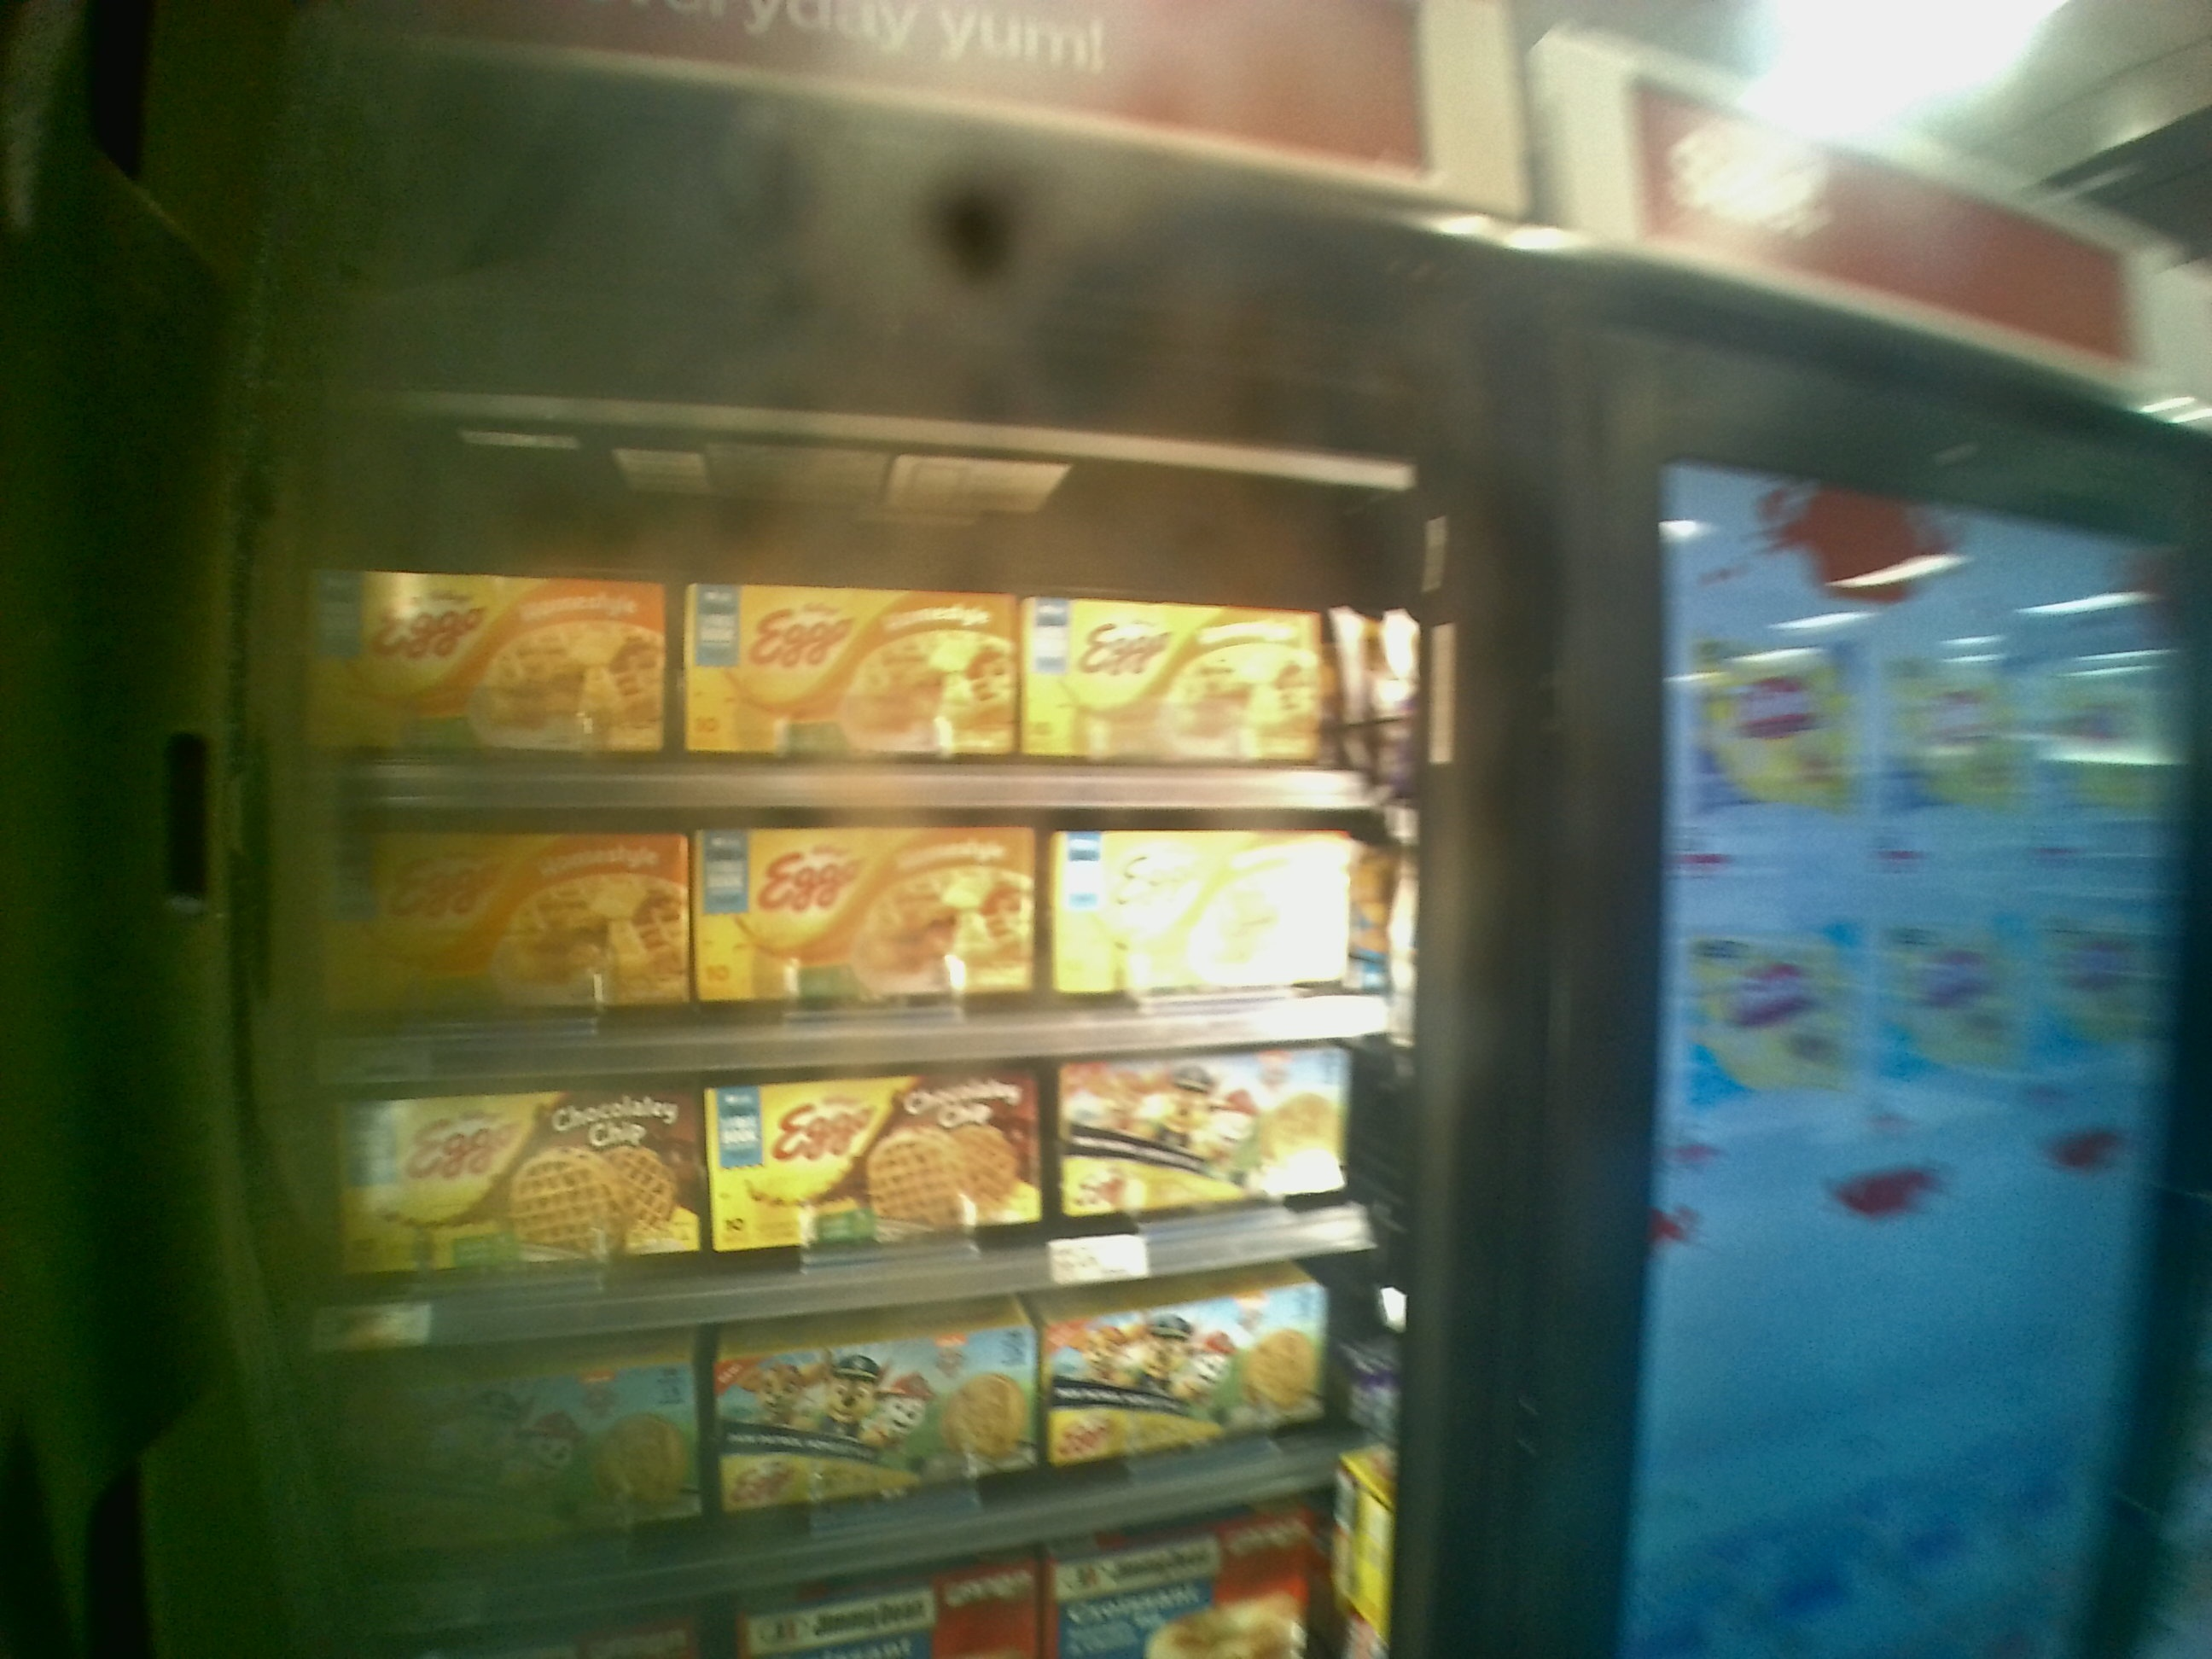shelf: (265, 397, 1420, 819), (265, 1030, 1411, 1345), (268, 814, 1425, 1075)
